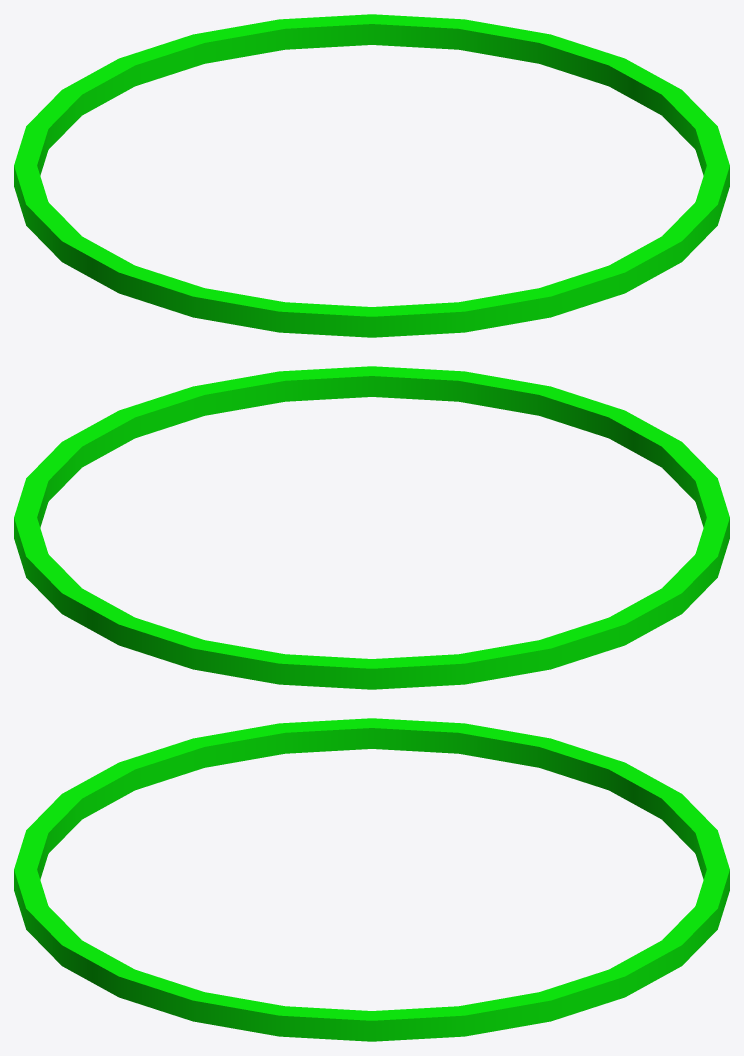
Rendered from green_gimbal.dae.
3 views of the same model, one above another, from view 1: azimuth 30°, elevation 25°; view 2: azimuth 150°, elevation 25°; view 3: azimuth 270°, elevation 25° (orthographic).
Visible parts, largest first — view 1: SketchUp (×2); view 2: SketchUp (×2); view 3: SketchUp (×2).
Part boxes in pixels (bbox=[...]): SketchUp (×2): bbox=[14, 14, 729, 337]; SketchUp (×2): bbox=[14, 366, 729, 689]; SketchUp (×2): bbox=[14, 718, 729, 1041].
Bounding box in the file's own units: 244 × 244 × 7.87.
